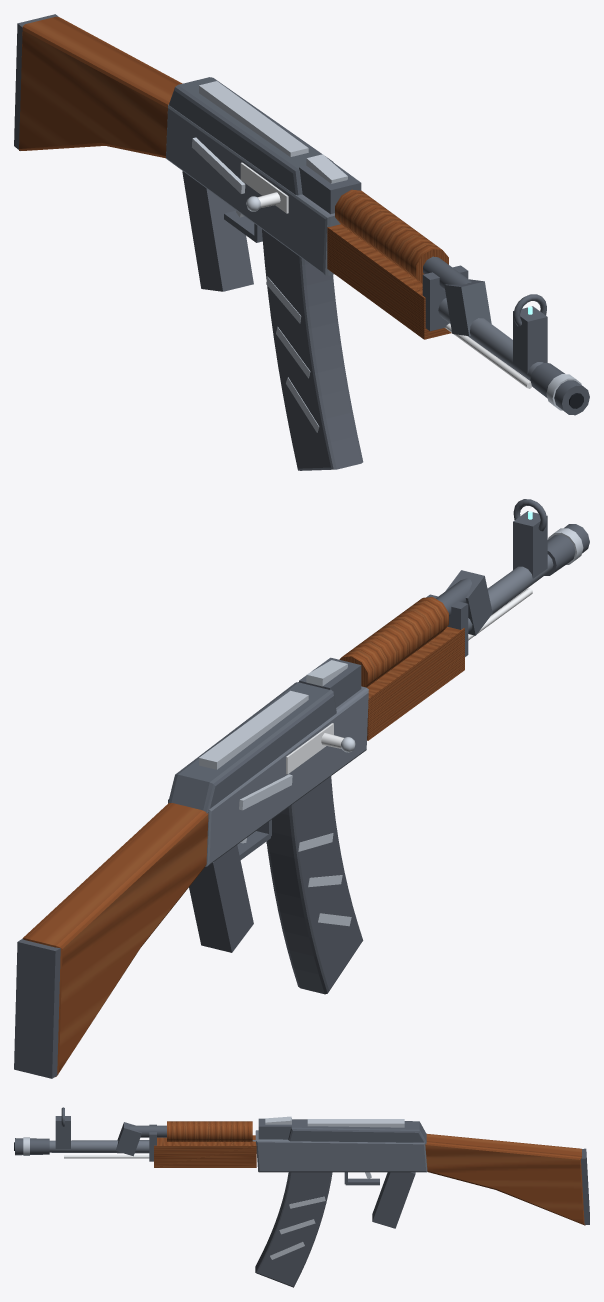
Rendered from weapon_rifle_classic.glb.
The picture shows the model from 3 angles, top to bottom: view 1: azimuth 30°, elevation 25°; view 2: azimuth 150°, elevation 25°; view 3: azimuth 270°, elevation 25°; orthographic projection. The views are drawn at different scales.
Visible parts, largest first — view 1: Weapon_rifle, RifleStock, magazine, RifleReceiver, slide; view 2: Weapon_rifle, RifleStock, magazine, RifleReceiver, slide; view 3: Weapon_rifle, RifleStock, RifleReceiver, magazine.
Boxes of the visible parts, <box> form: Weapon_rifle: <box>14,14,589,415</box>; RifleStock: <box>19,16,182,158</box>; magazine: <box>262,229,363,470</box>; RifleReceiver: <box>166,104,340,275</box>; slide: <box>240,162,288,213</box>; Weapon_rifle: <box>14,499,589,1078</box>; RifleStock: <box>22,803,208,1076</box>; magazine: <box>266,776,363,994</box>; RifleReceiver: <box>168,686,368,866</box>; slide: <box>286,723,355,774</box>; Weapon_rifle: <box>14,1107,589,1228</box>; RifleStock: <box>425,1134,585,1225</box>; RifleReceiver: <box>255,1130,427,1172</box>; magazine: <box>255,1172,332,1287</box>.
Size of the model in its own units: 0.0835 by 0.3504 by 1.04.
Materials: 8 (1 with a texture image).
